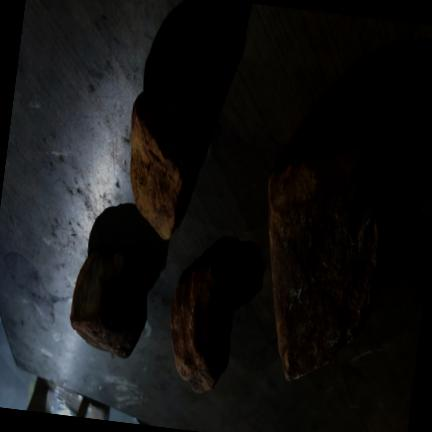Rocks: (268, 142, 399, 379), (129, 90, 211, 238), (70, 251, 146, 356), (170, 265, 231, 391)
